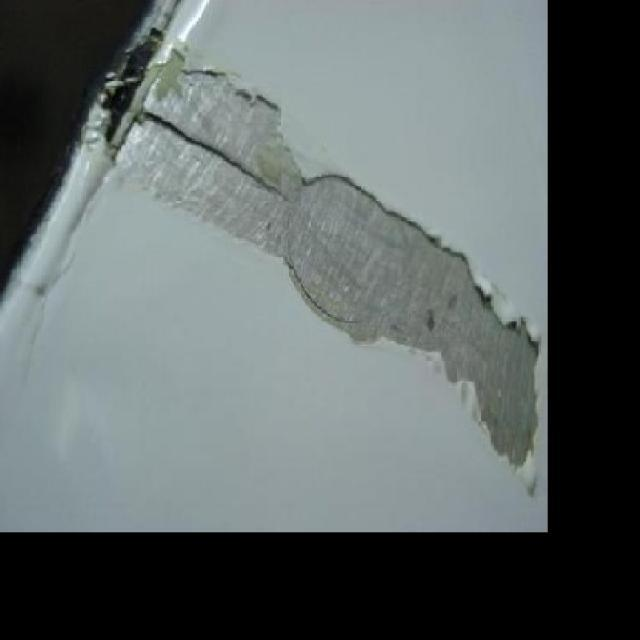crack: (210, 149, 287, 197), (150, 113, 210, 149)
